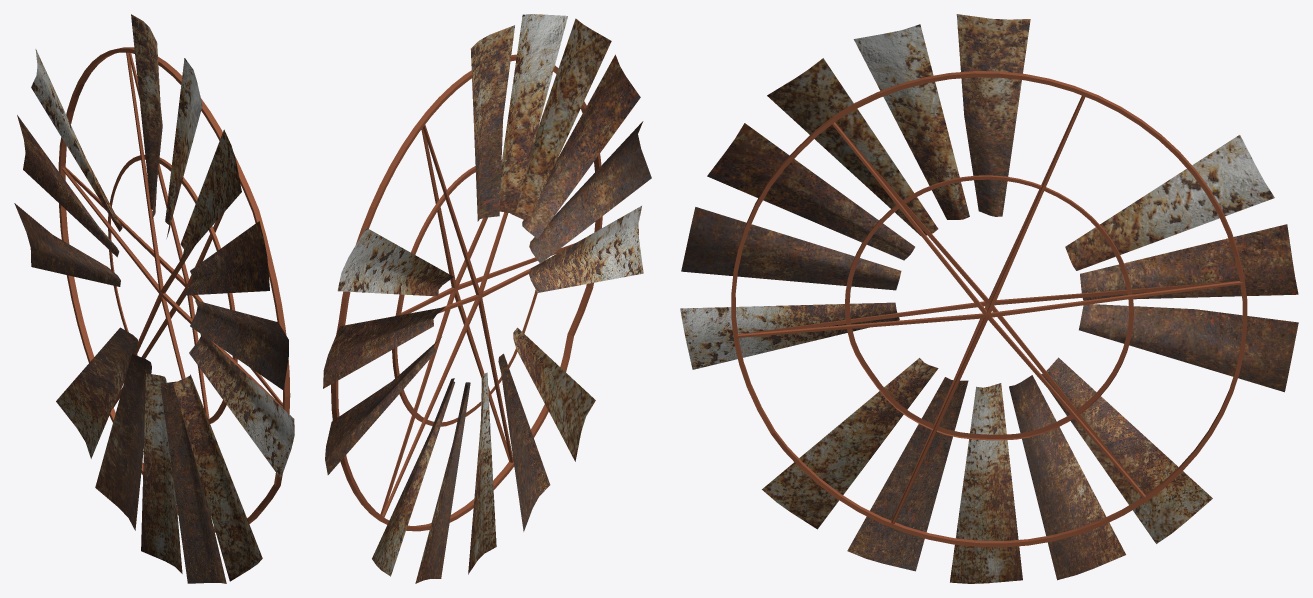
The model's file is rodaMoinho2.obj.
3 views of the same model, side by side, from view 1: azimuth 30°, elevation 25°; view 2: azimuth 150°, elevation 25°; view 3: azimuth 270°, elevation 25° (orthographic). The views are drawn at different scales.
Parts seen in each view (by area): view 1: spokes_Plane.068; view 2: spokes_Plane.068; view 3: spokes_Plane.068.
Part boxes in pixels (x1,y1,x2,y2): spokes_Plane.068: (14,14,294,583); spokes_Plane.068: (323,14,651,583); spokes_Plane.068: (680,14,1298,583).
Size of the model in its own units: 1.75 by 16.27 by 16.33.
7 materials, 7 textured.
